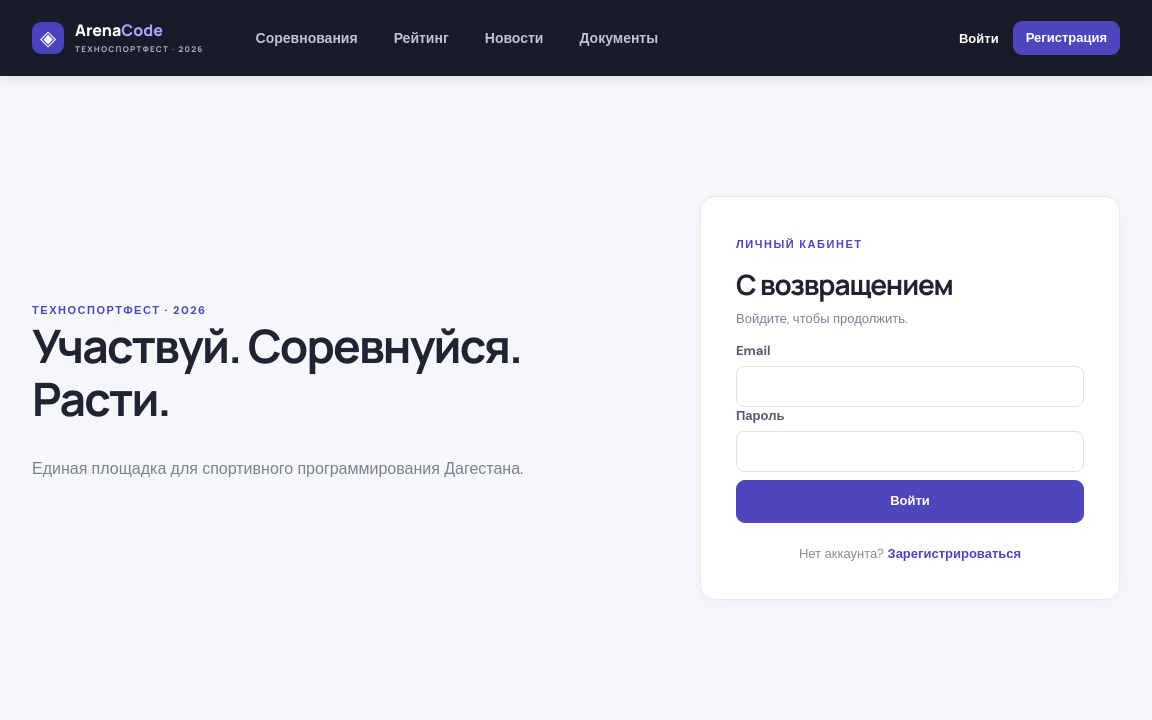
Test: основной путь MVP › возвращает спортсмена к соревнованию после входа
Type "athlete@example.com" into the field labelled "Email" at (910, 387), box [736, 366, 1084, 407]
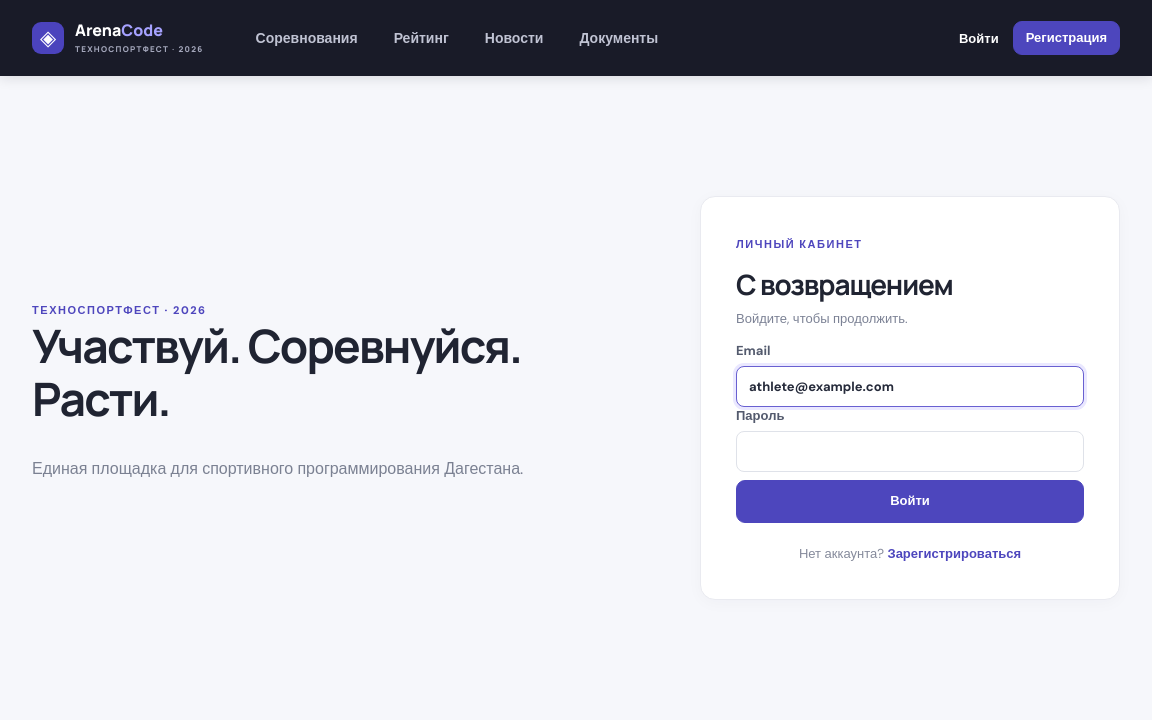
Type "long-demo-password" into the password field labelled "Пароль" at (910, 452), box [736, 431, 1084, 472]
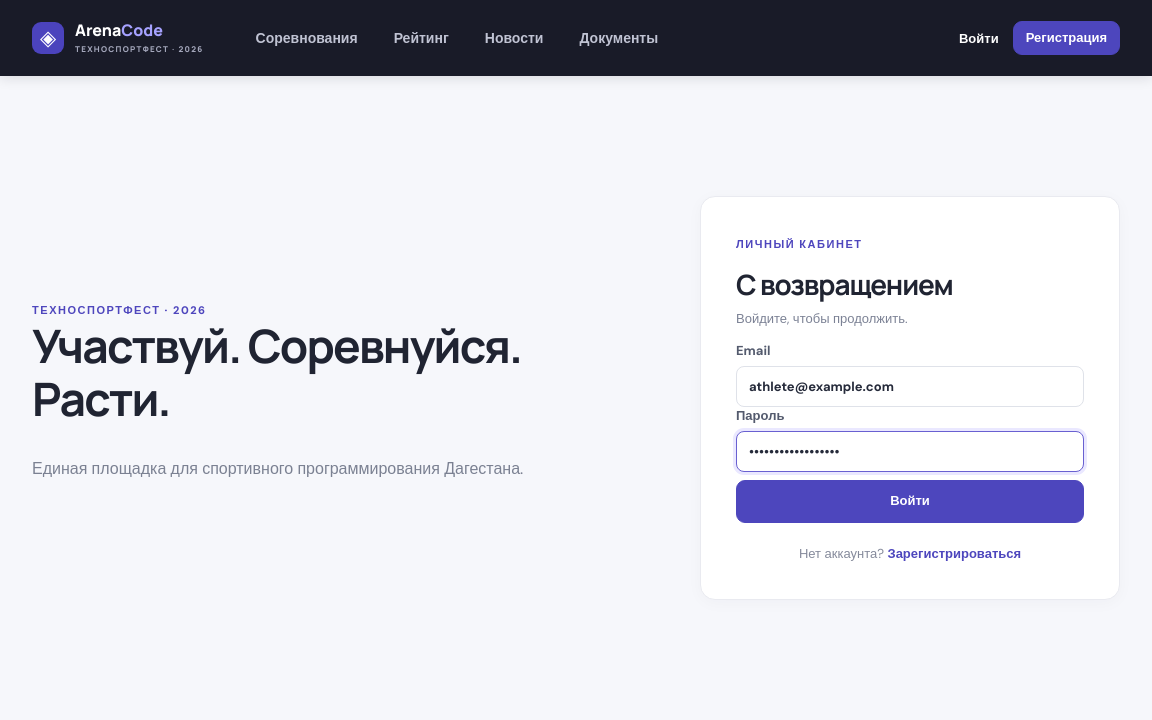
Click the button "Войти" at (910, 502), box [736, 480, 1084, 523]
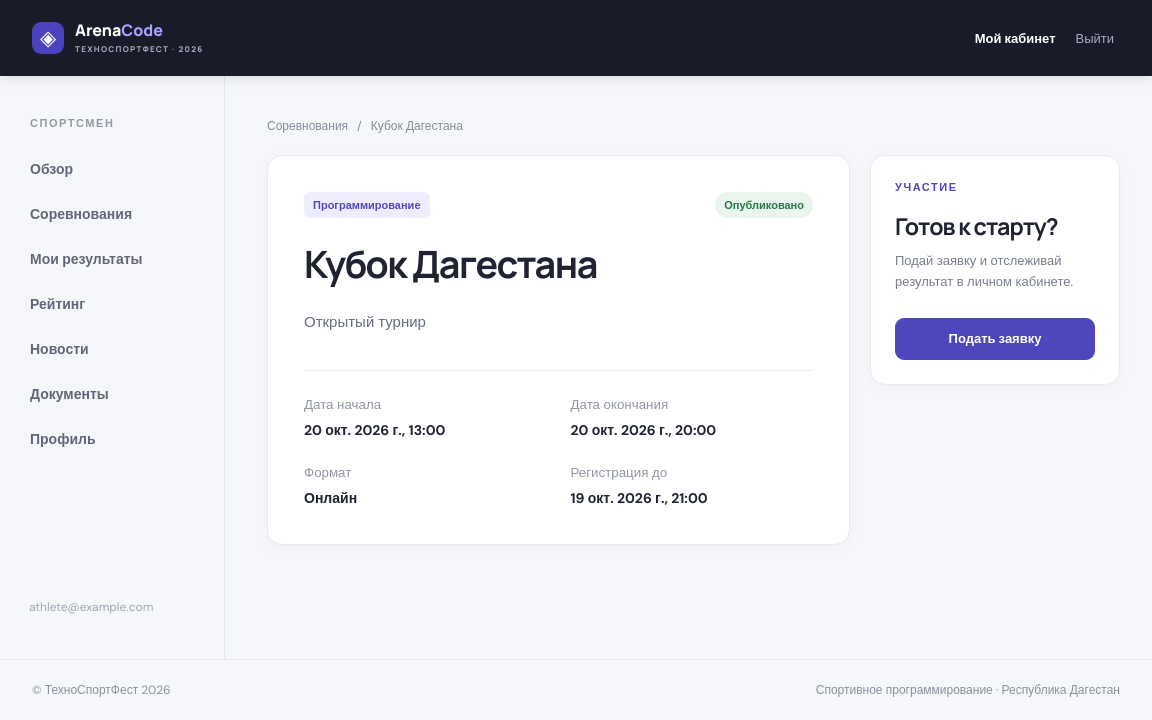
Check: the button "Подать заявку" is shown, box [895, 318, 1095, 360]
